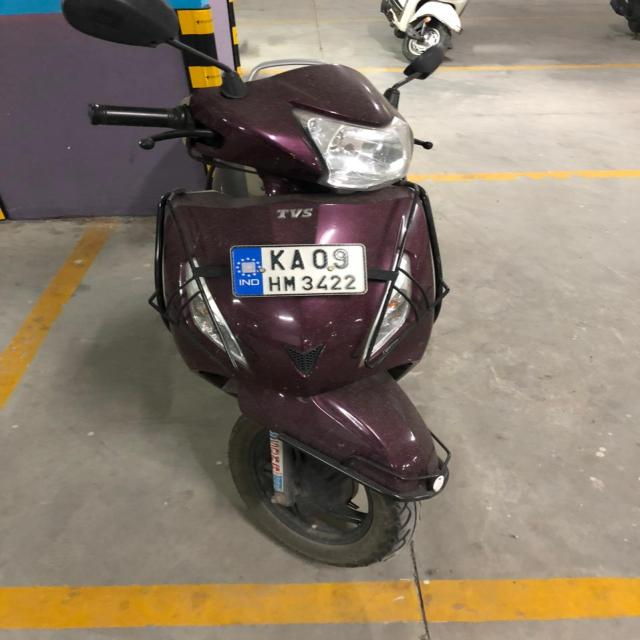license_plate: (229, 242, 368, 298)
